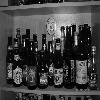beer: (23, 38, 39, 88)
